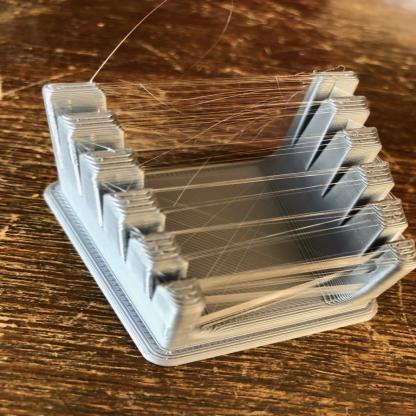fail: (113, 82, 302, 152), (157, 182, 347, 245), (207, 257, 357, 318)
